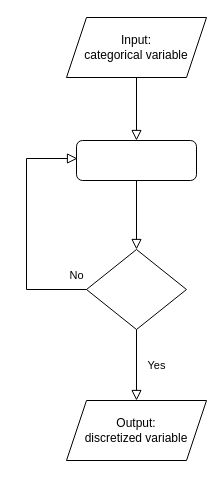
Image size: 224x478. Some labels were removed from this diagram. The box of each missing label's shape, as (x1, y1, x2, y2) in pixels:
Merge Attribute: (76, 140, 196, 180)
Stop Criterion: (86, 248, 186, 330)
